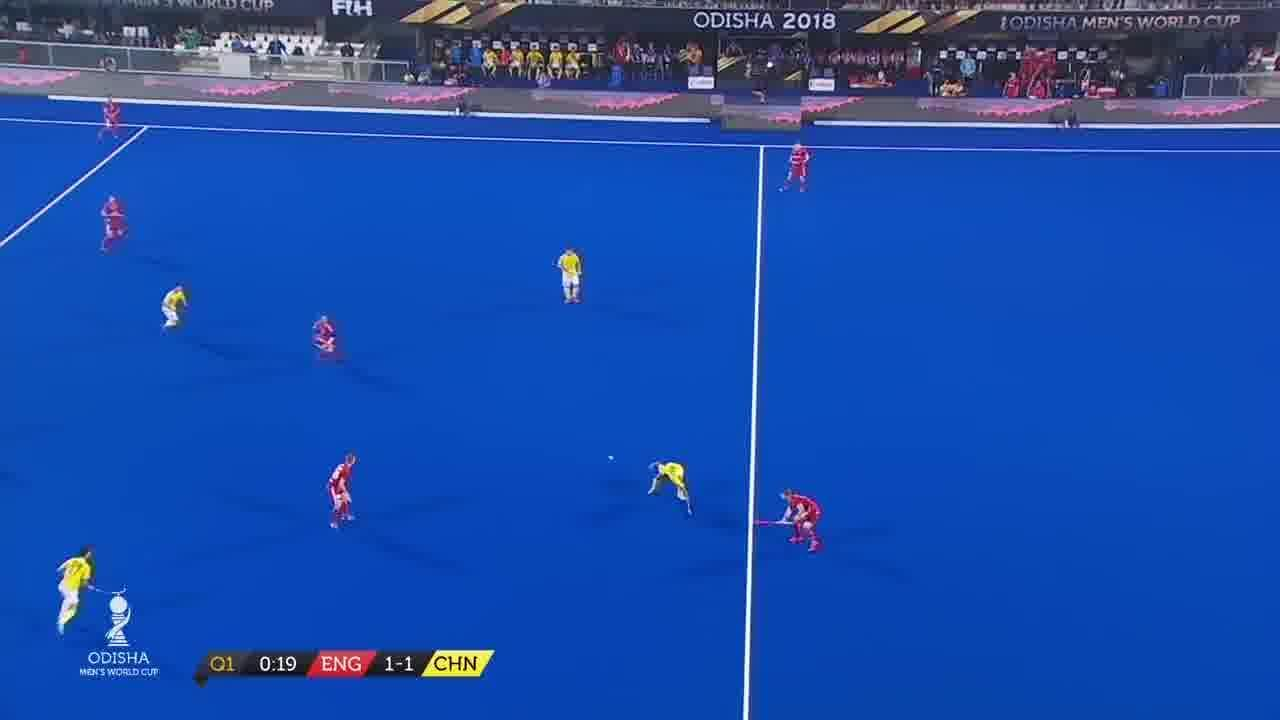ball: (604, 450, 622, 465)
